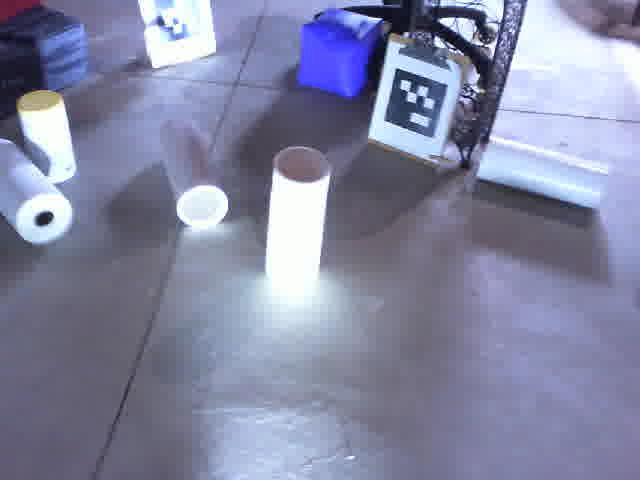coral: (475, 126, 614, 216), (264, 140, 333, 293), (154, 115, 235, 230)
